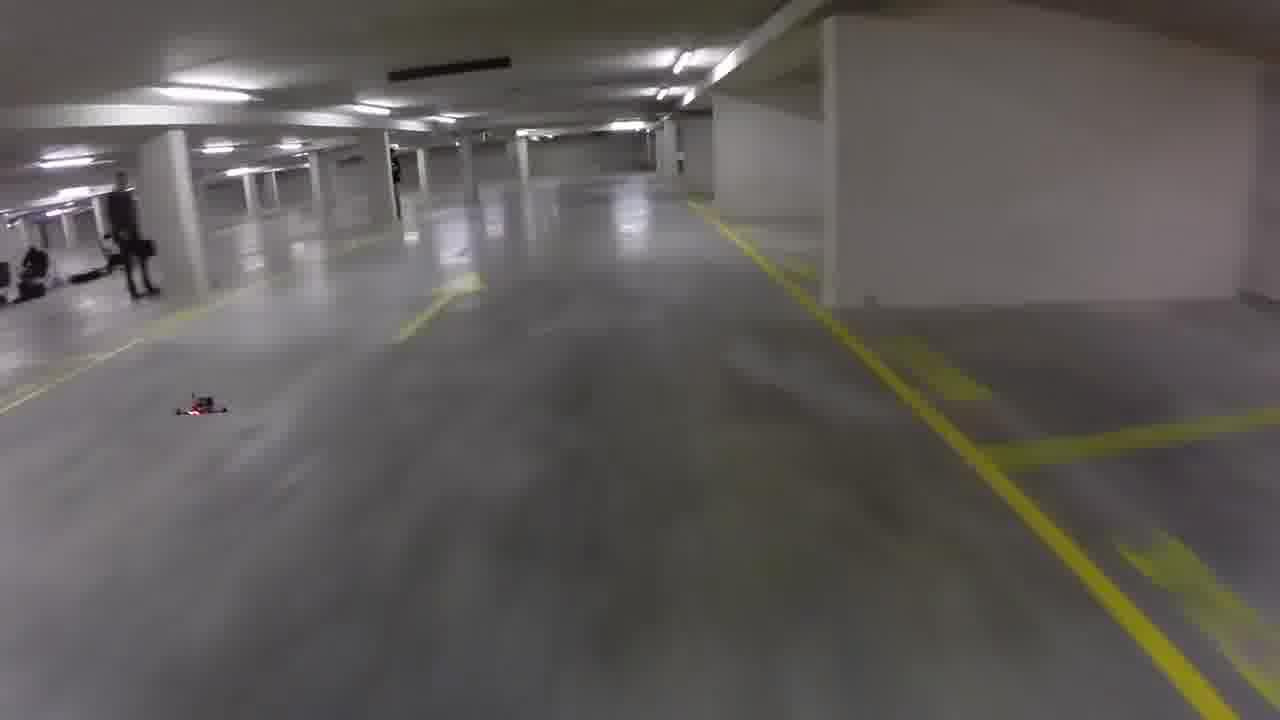drone: (166, 377, 242, 438)
